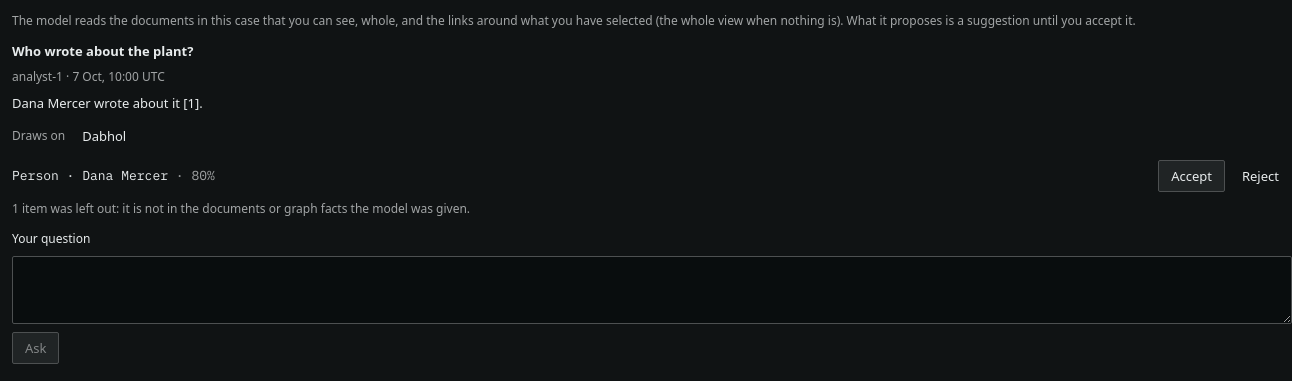
QuestionsPanel › accepting a proposal applies its change to the view and marks it accepted
Click the button with aria-label "Accept Person · Dana Mercer" at (1192, 176), box [1158, 160, 1225, 192]
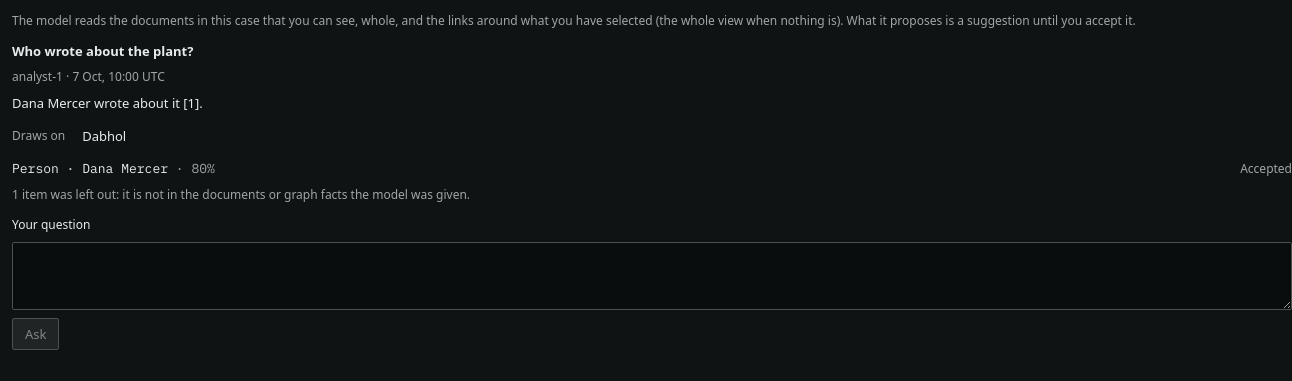
expect the text "Accepted" is shown: met, box [1240, 160, 1291, 178]
